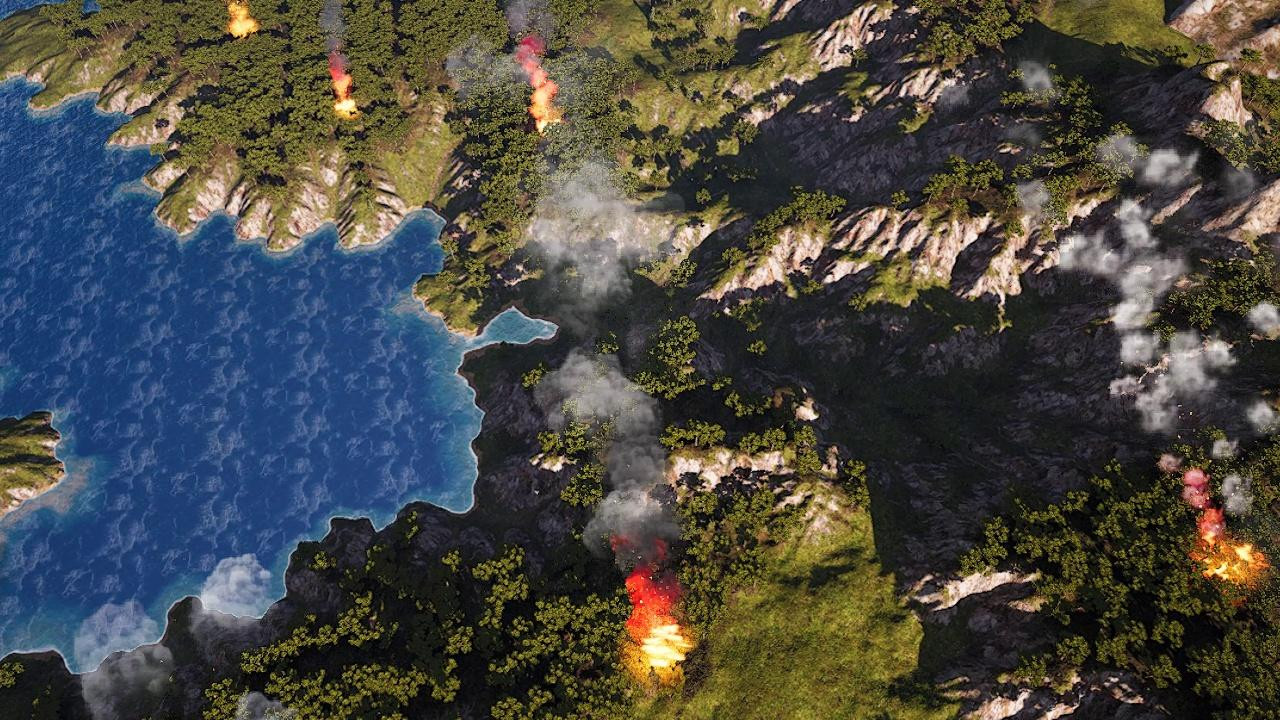fire: (1196, 514, 1266, 582), (638, 621, 689, 669), (531, 76, 562, 127), (331, 71, 358, 113), (225, 4, 256, 38)
smoke: (1051, 131, 1279, 531), (523, 140, 682, 600), (73, 599, 166, 718), (187, 550, 284, 640), (500, 0, 559, 74), (316, 0, 349, 77), (231, 692, 303, 720), (1018, 58, 1059, 100)
